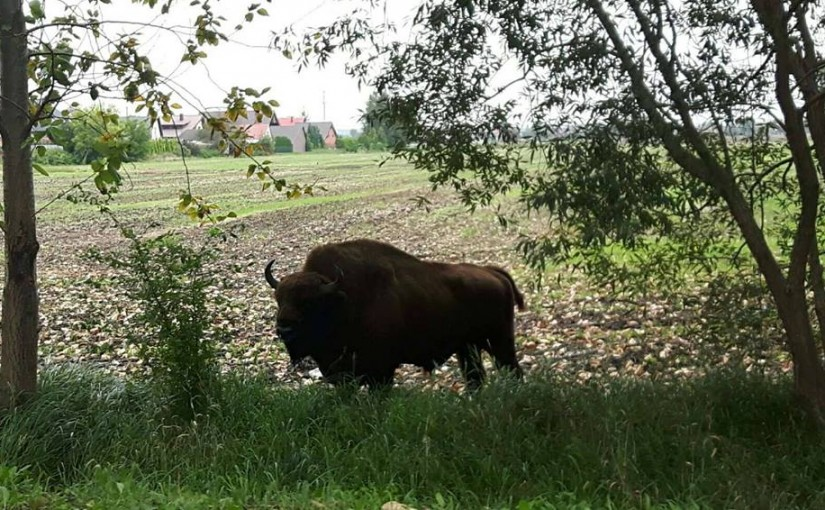zubr: (242, 229, 546, 406)
